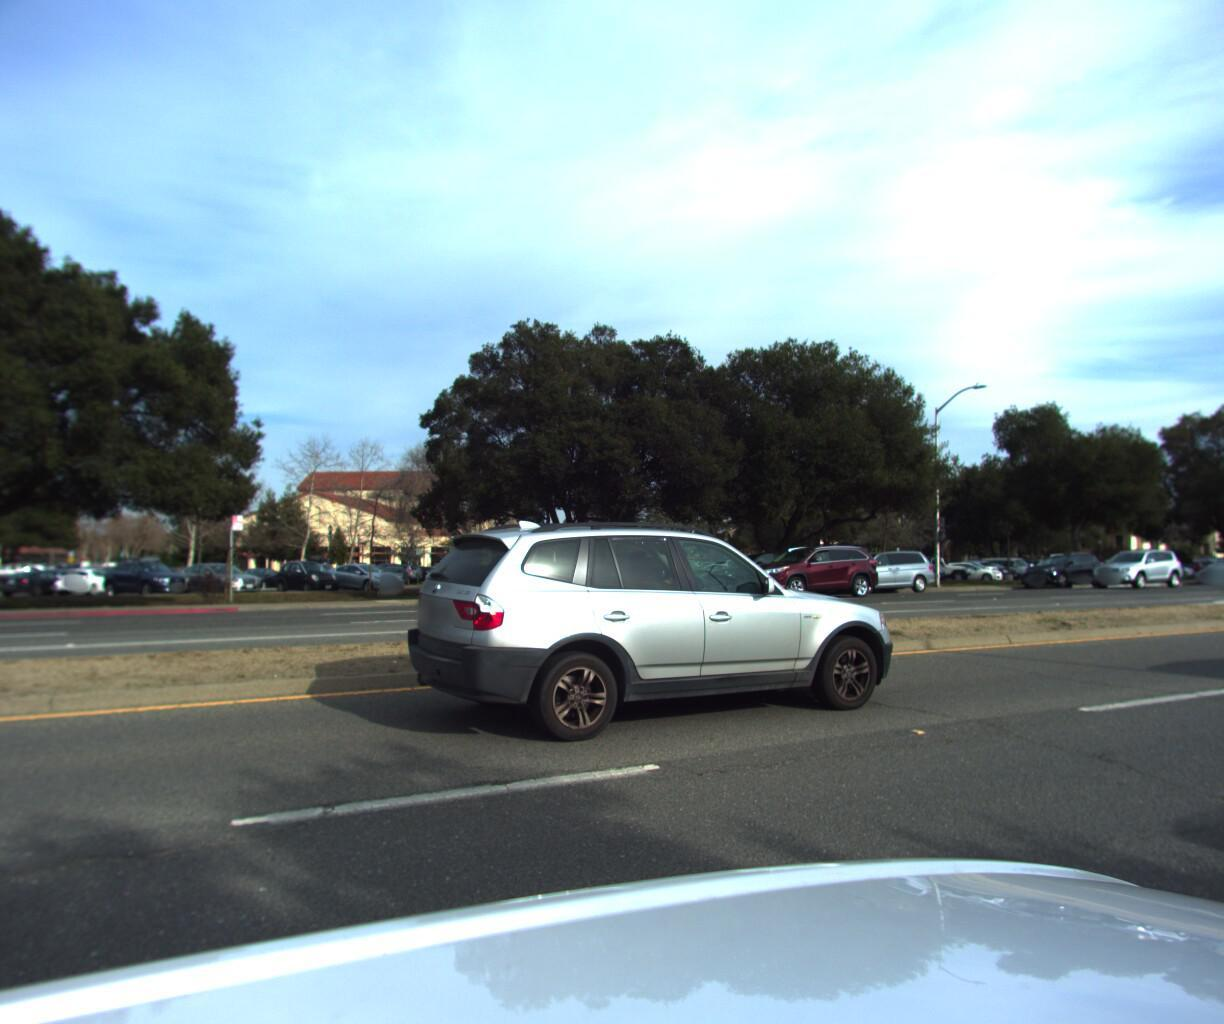car: (395, 510, 914, 760), (737, 543, 886, 599), (810, 543, 943, 593), (1078, 544, 1192, 587), (1007, 546, 1110, 585), (1179, 551, 1224, 580)
